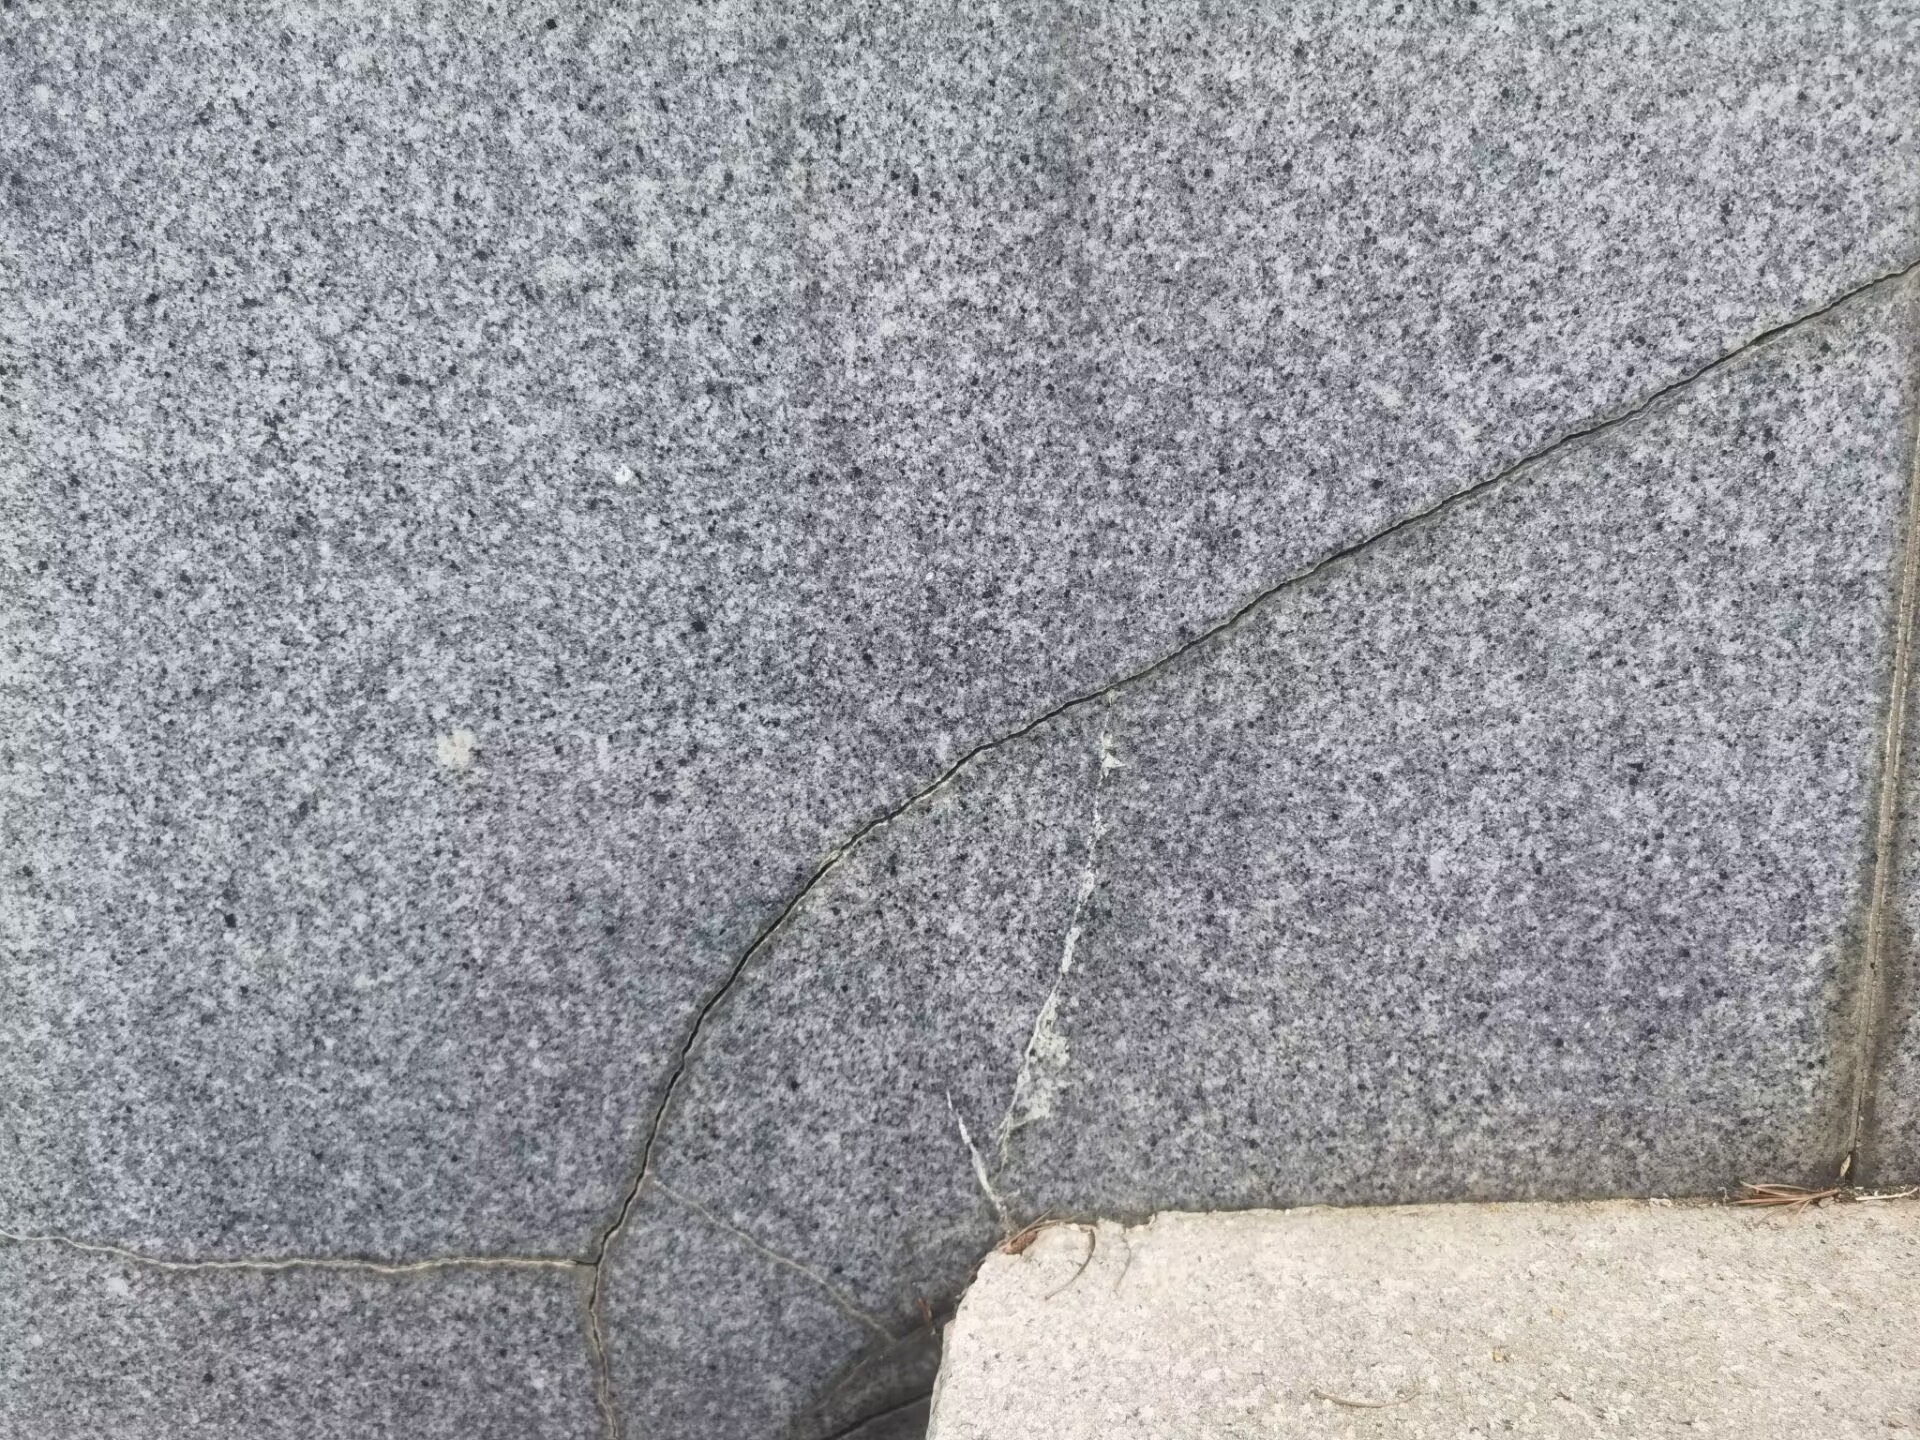TILE: (0, 259, 1920, 1434)
